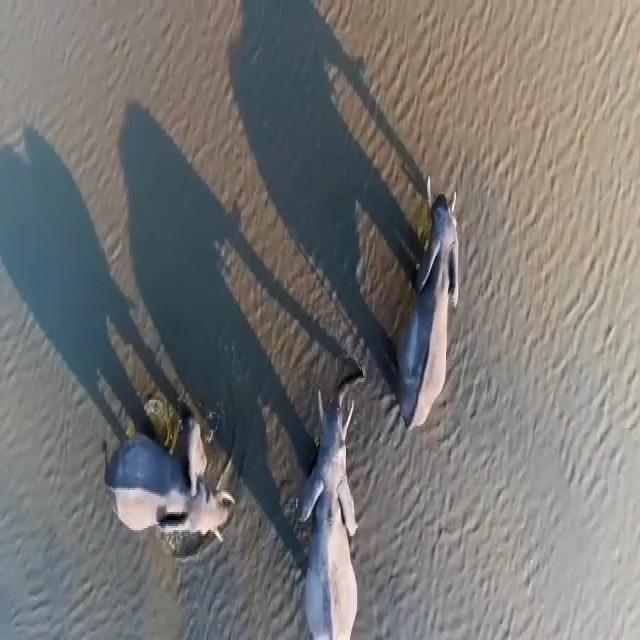Elephant: (96, 410, 244, 566), (296, 384, 373, 640), (400, 190, 473, 460)
